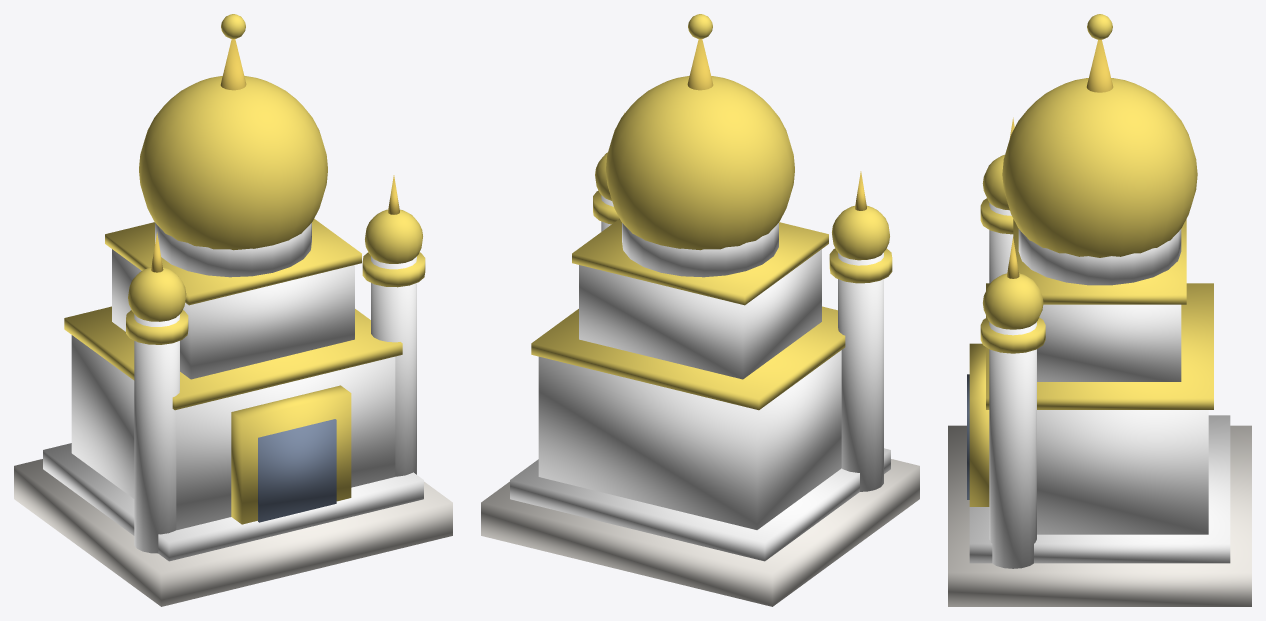
The model's file is castle_dubai.fbx.
3 views of the same model, side by side, from view 1: azimuth 30°, elevation 25°; view 2: azimuth 150°, elevation 25°; view 3: azimuth 270°, elevation 25° (orthographic). The views are drawn at different scales.
Parts seen in each view (by area): view 1: Terrace; view 2: Terrace; view 3: Terrace.
Boxes of the visible parts, left/top/right/bottom form: Terrace: left=14, top=14, right=452, bottom=606; Terrace: left=481, top=14, right=919, bottom=606; Terrace: left=948, top=14, right=1251, bottom=606.
Size of the model in its own units: 3.2 by 5.27 by 2.8.
